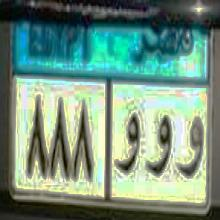8: (71, 97, 94, 188), (25, 88, 48, 179), (49, 87, 71, 181)
waw: (175, 108, 204, 182), (112, 113, 141, 183), (146, 112, 172, 184)
